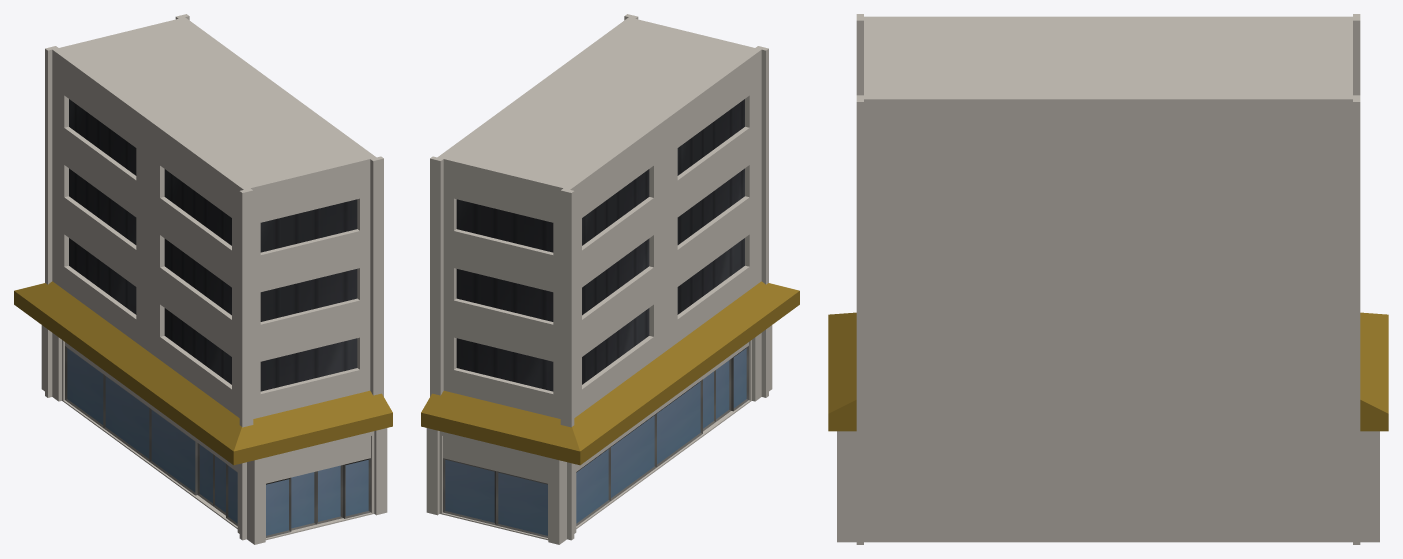
File: Bld_Building_IA.fbx
3 renders of one model, left to right at view 1: azimuth 30°, elevation 25°; view 2: azimuth 150°, elevation 25°; view 3: azimuth 270°, elevation 25°, orthographic. The views are drawn at different scales.
Parts seen in each view (by area): view 1: Bld_Building_IA; view 2: Bld_Building_IA; view 3: Bld_Building_IA.
Part boxes in pixels (x1,y1,x2,y2): Bld_Building_IA: (14,14,392,544); Bld_Building_IA: (421,14,799,544); Bld_Building_IA: (828,14,1388,544).
Bounding box in the file's own units: 730 × 1500 × 1719.
